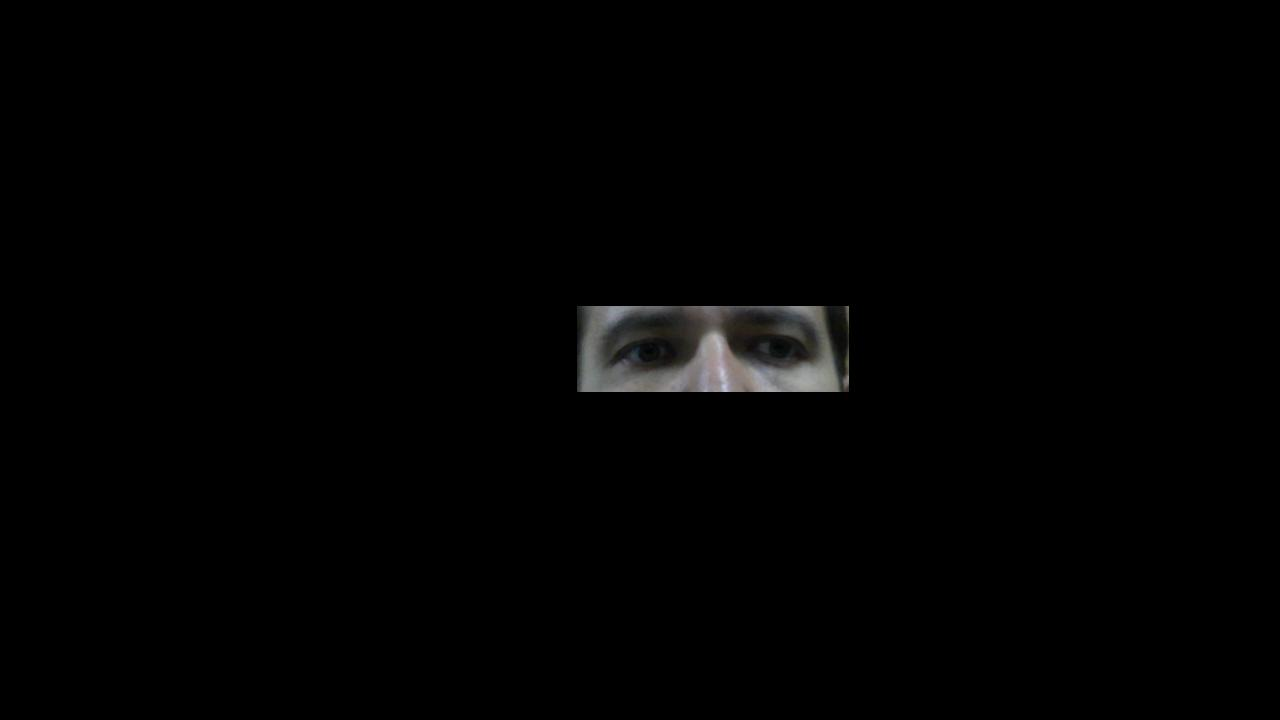eye: (638, 342, 661, 362), (770, 339, 791, 358)
